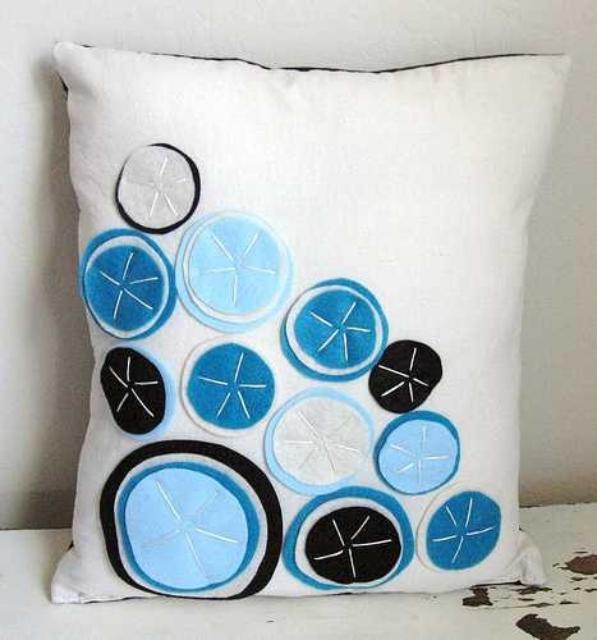pillow: (48, 39, 572, 603)
